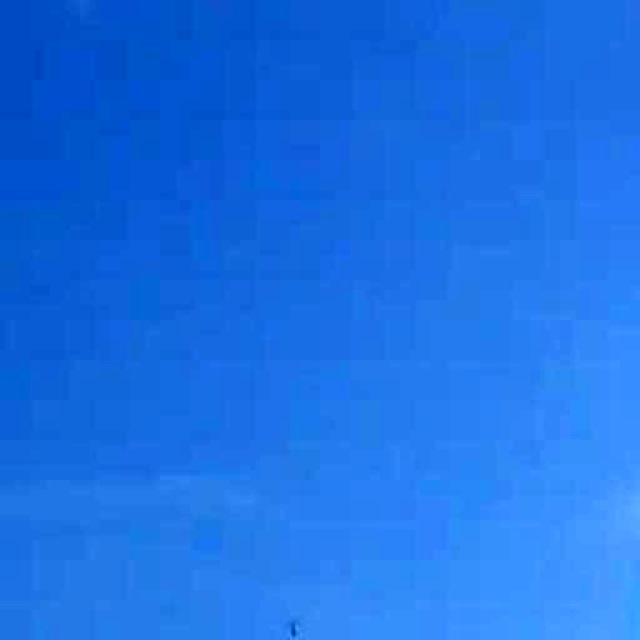drone: (270, 596, 312, 640)
